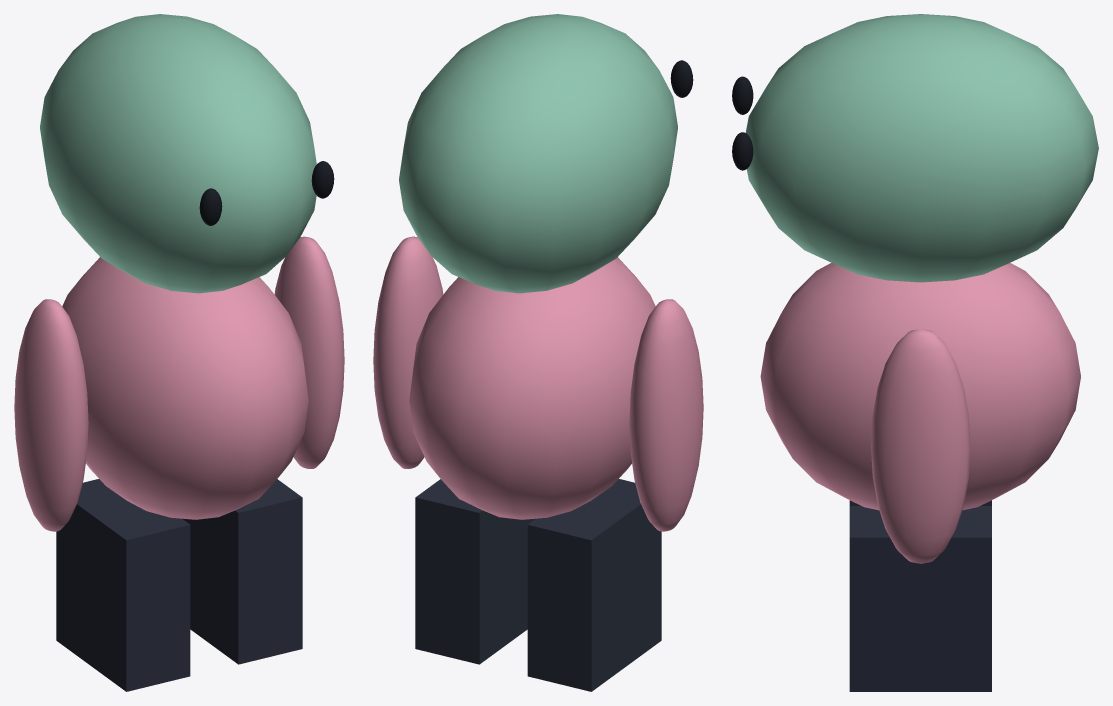
Rendered from figurine.glb.
3 renders of one model, left to right at view 1: azimuth 30°, elevation 25°; view 2: azimuth 150°, elevation 25°; view 3: azimuth 270°, elevation 25°, orthographic.
Parts seen in each view (by area): view 1: figurine; view 2: figurine; view 3: figurine.
Part boxes in pixels (box(x1,y1,x2,y2)): figurine: box(14, 14, 344, 691); figurine: box(373, 14, 703, 691); figurine: box(732, 14, 1098, 691).
Size of the model in its own units: 8 by 15 by 8.
